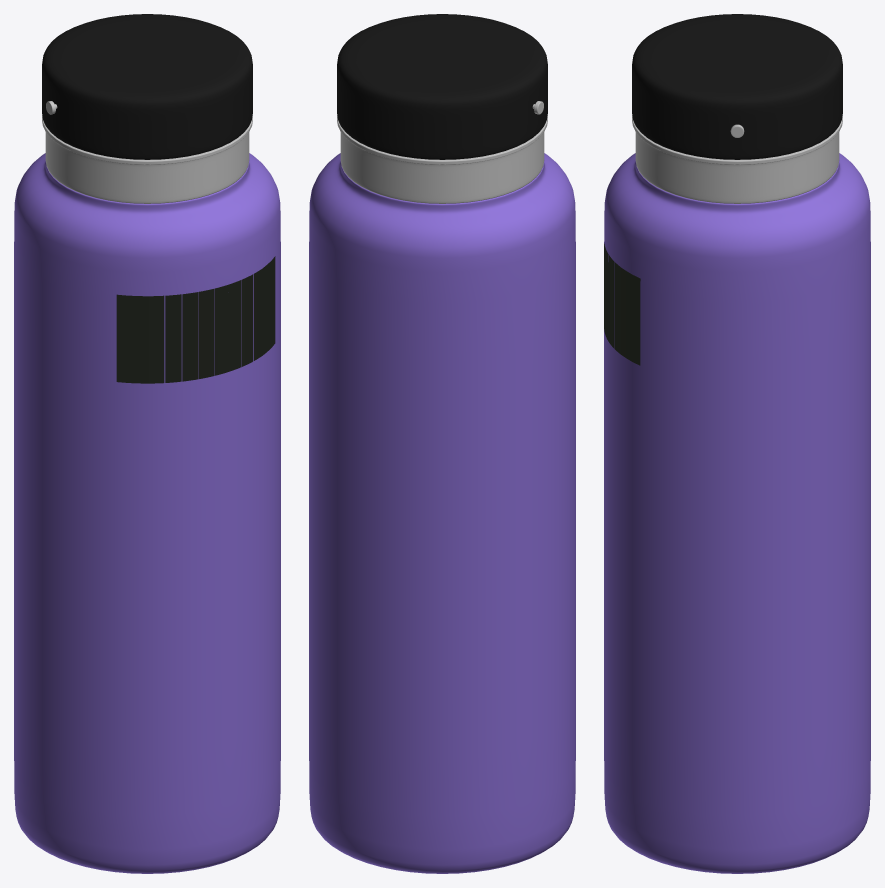
File: purpleflask.glb
The picture shows the model from 3 angles, left to right: view 1: azimuth 30°, elevation 25°; view 2: azimuth 150°, elevation 25°; view 3: azimuth 270°, elevation 25°; orthographic projection.
Visible parts, largest first — view 1: Circle, Circle.002, Plane, Circle.001; view 2: Circle, Circle.002, Circle.001; view 3: Circle, Circle.002, Circle.001, Plane.
Boxes of the visible parts, x1=… form: Circle: x1=14, y1=153, x2=280, y2=873; Circle.002: x1=42, y1=14, x2=252, y2=159; Plane: x1=116, y1=256, x2=275, y2=383; Circle.001: x1=42, y1=116, x2=252, y2=203; Circle: x1=309, y1=153, x2=575, y2=873; Circle.002: x1=337, y1=14, x2=547, y2=159; Circle.001: x1=337, y1=116, x2=547, y2=203; Circle: x1=604, y1=153, x2=870, y2=873; Circle.002: x1=632, y1=14, x2=842, y2=159; Circle.001: x1=632, y1=116, x2=842, y2=203; Plane: x1=604, y1=243, x2=640, y2=365.
Size of the model in its own units: 1.91 by 6.09 by 1.91.
